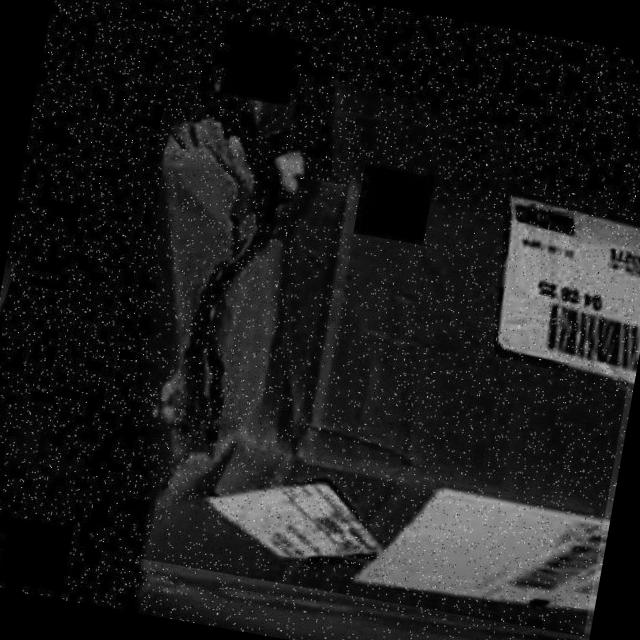box: (91, 43, 640, 636)
